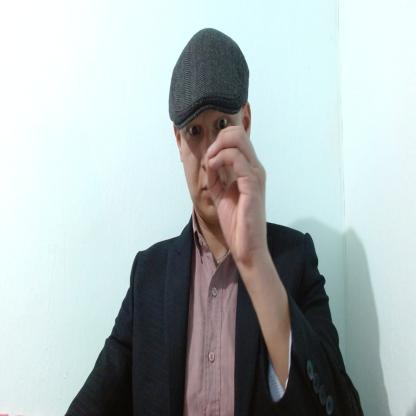O: (204, 122, 268, 260)
